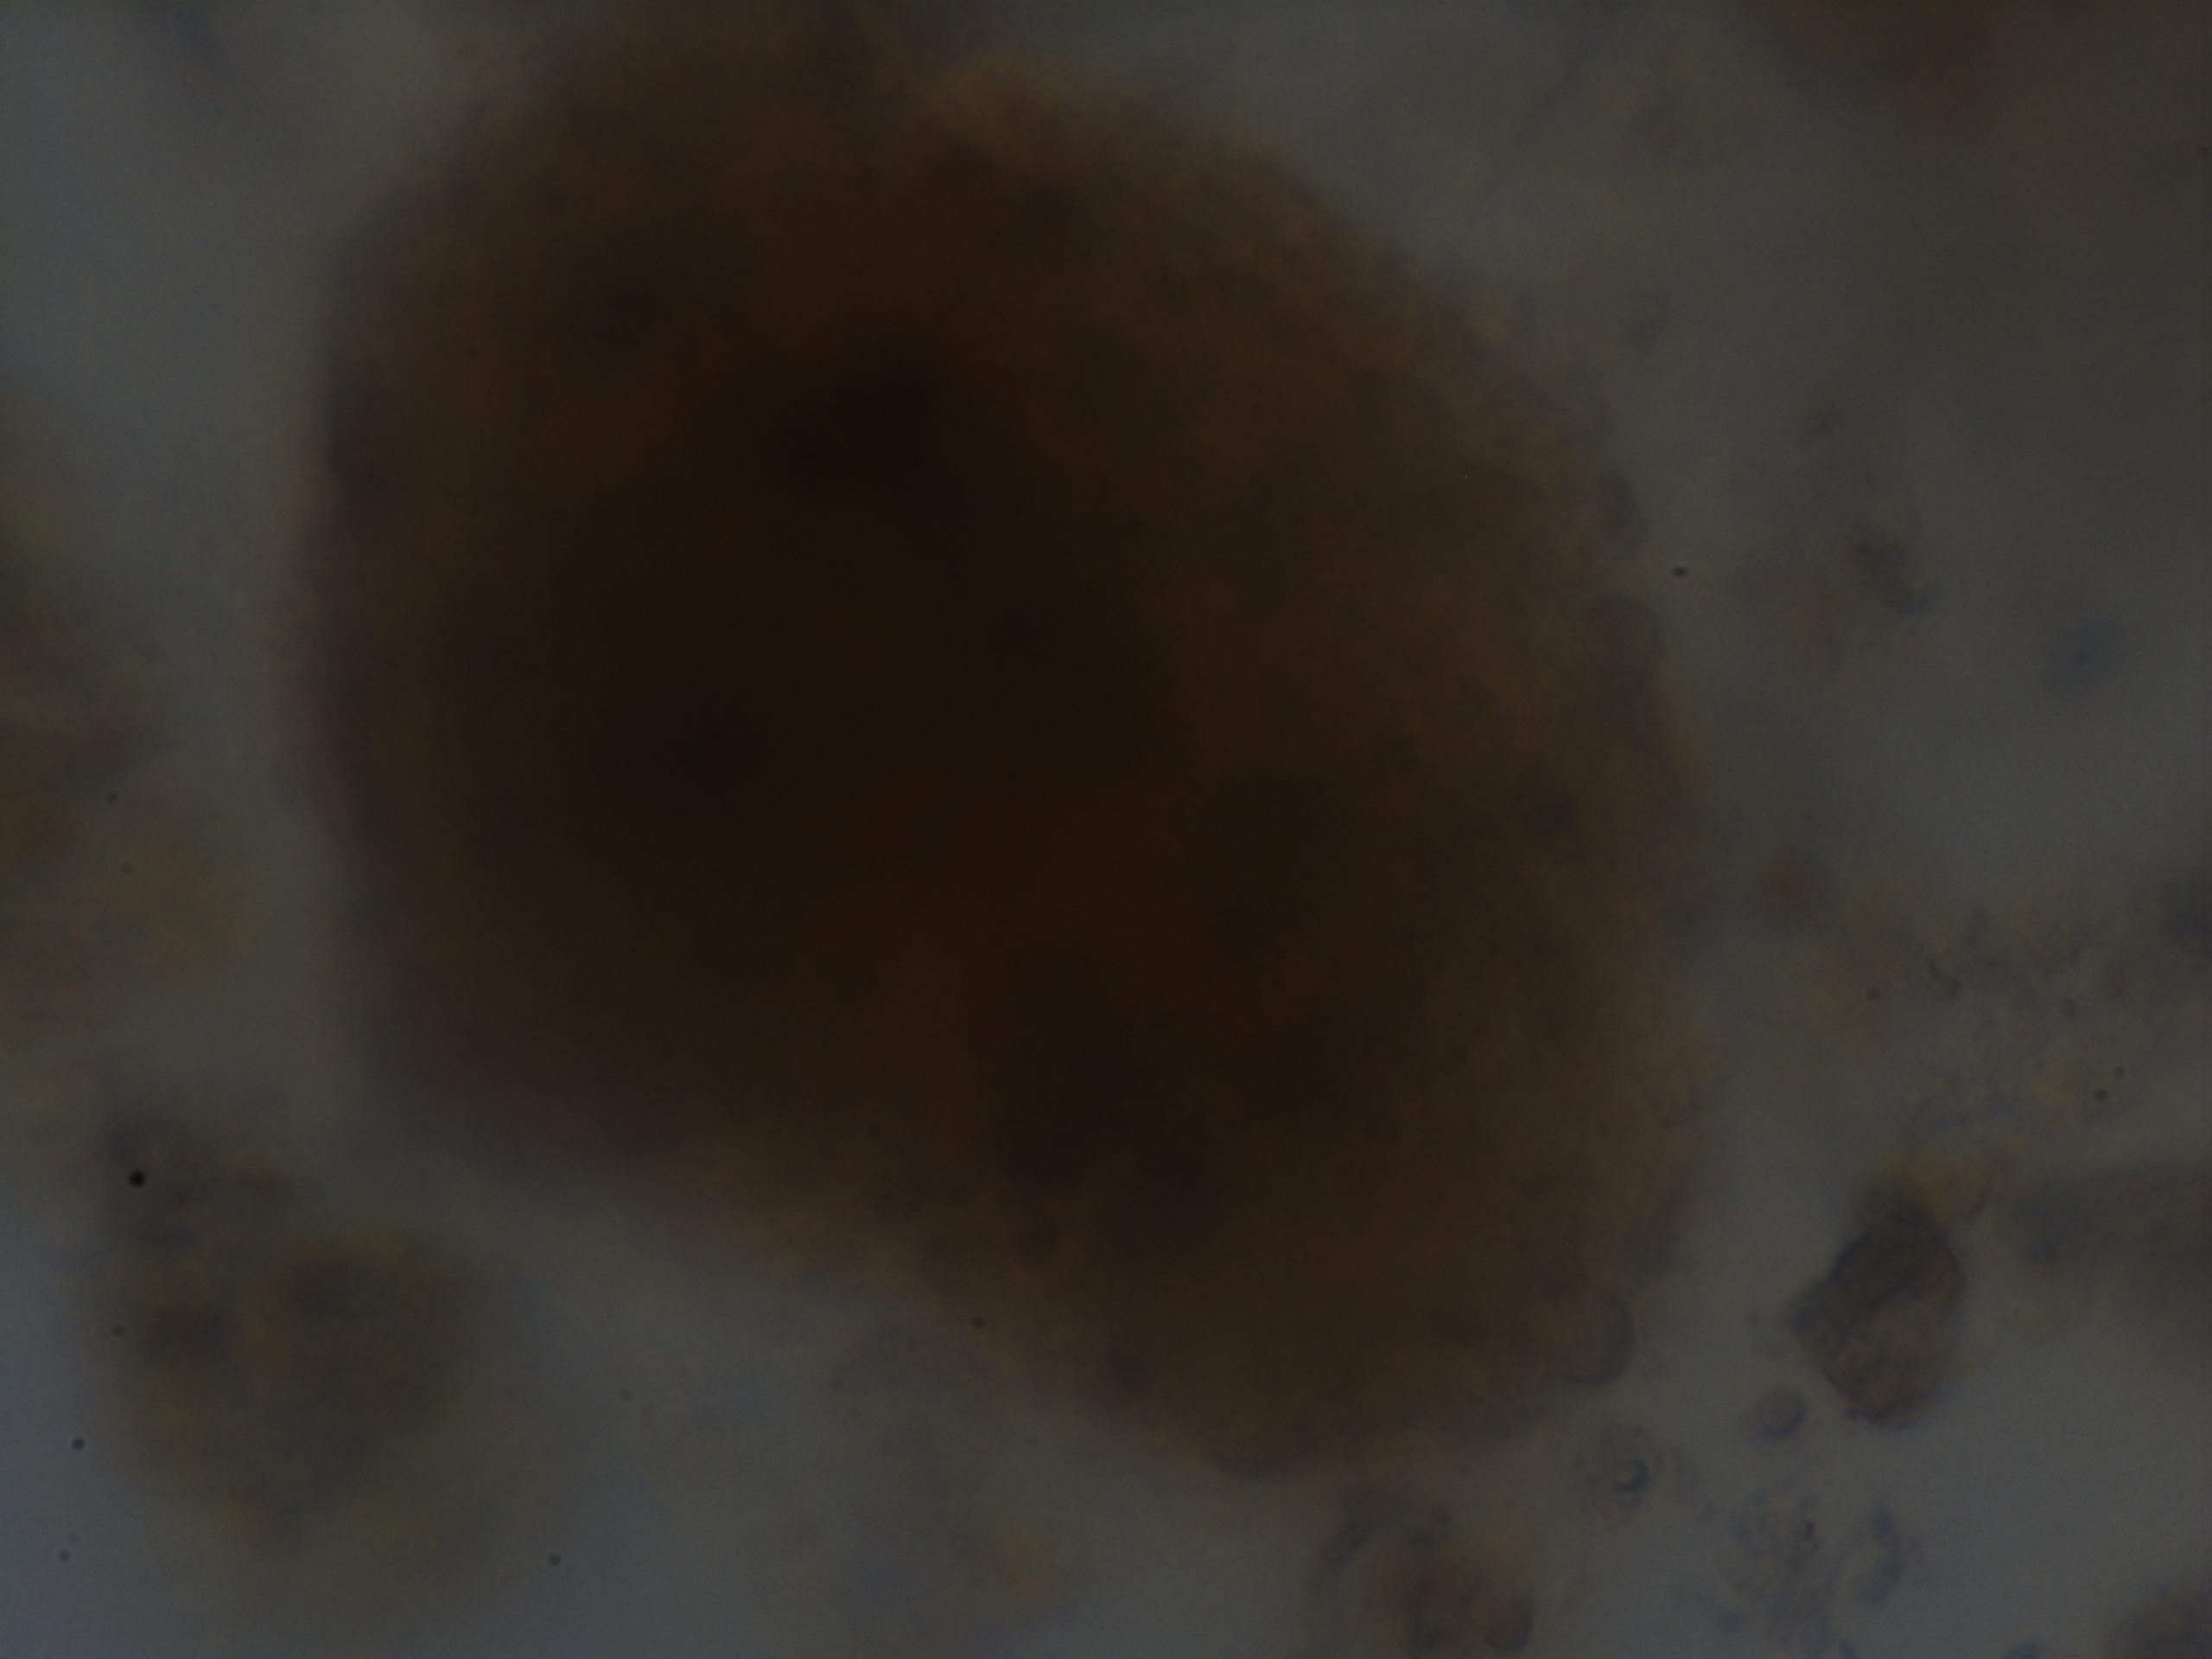spherical_floc: (307, 0, 1733, 1497)
